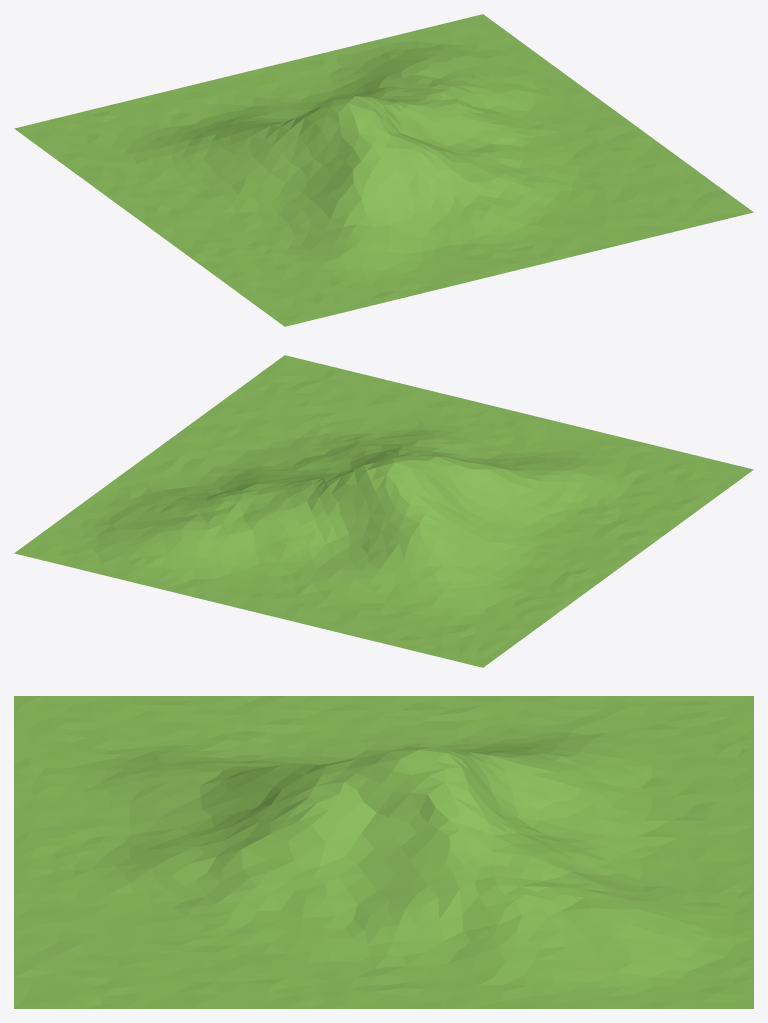
File: MT_Terrain_L_a_34_LOD.fbx
3 renders of one model, top to bottom at view 1: azimuth 30°, elevation 25°; view 2: azimuth 150°, elevation 25°; view 3: azimuth 270°, elevation 25°, orthographic. The views are drawn at different scales.
Parts seen in each view (by area): view 1: MT_Terrain_L_a_34_LOD0; view 2: MT_Terrain_L_a_34_LOD0; view 3: MT_Terrain_L_a_34_LOD0.
Boxes of the visible parts, x1,y1,x2,y2 form: MT_Terrain_L_a_34_LOD0: [14, 14, 753, 326]; MT_Terrain_L_a_34_LOD0: [14, 355, 753, 667]; MT_Terrain_L_a_34_LOD0: [14, 696, 753, 1008].
Size of what is drawn, in the model's own units: 10000 by 1308 by 10000.
